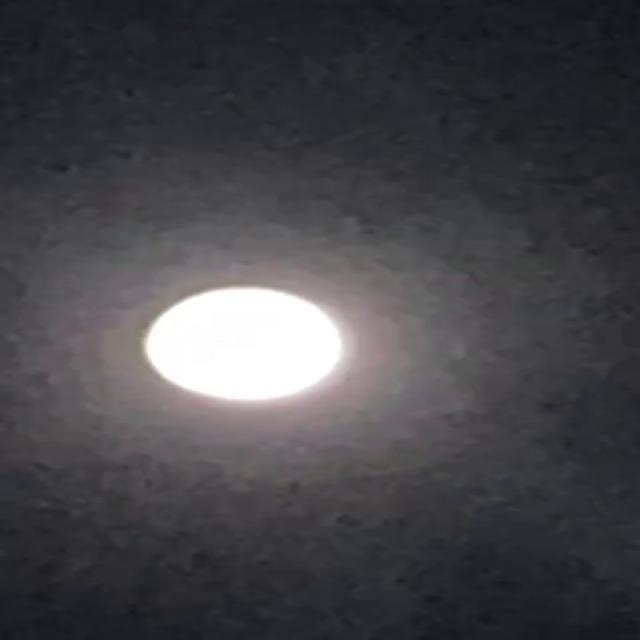moon: (132, 283, 359, 404)
